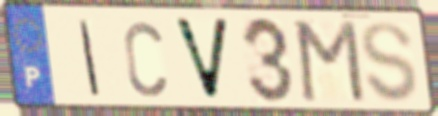3: (239, 14, 296, 107)
C: (121, 17, 170, 99)
I: (77, 17, 103, 98)
M: (293, 18, 368, 106)
S: (359, 18, 421, 105)
V: (170, 15, 233, 104)
